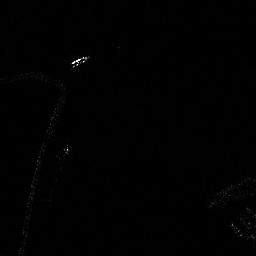ship: (69, 53, 91, 67)
